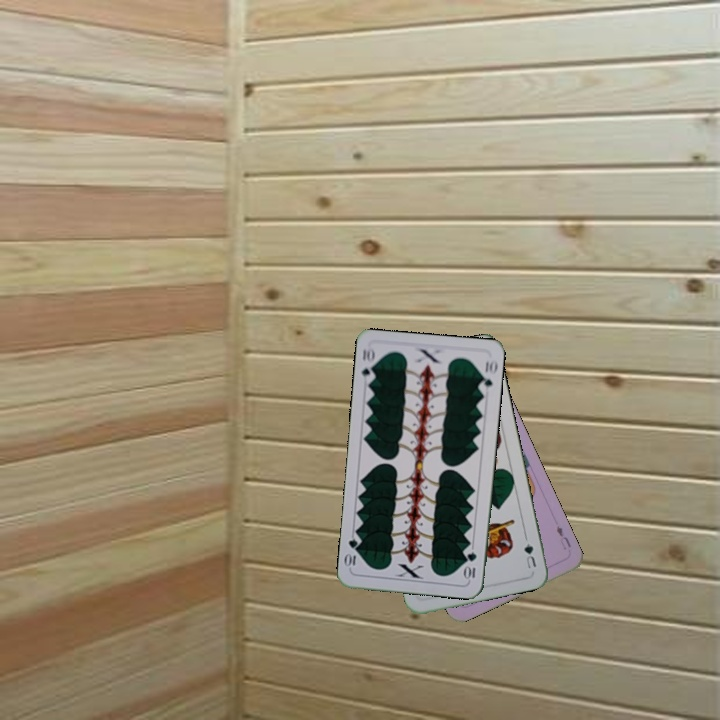EU: (552, 521, 574, 552)
G10: (358, 344, 378, 385), (461, 548, 479, 582)
GU: (520, 539, 539, 571)
